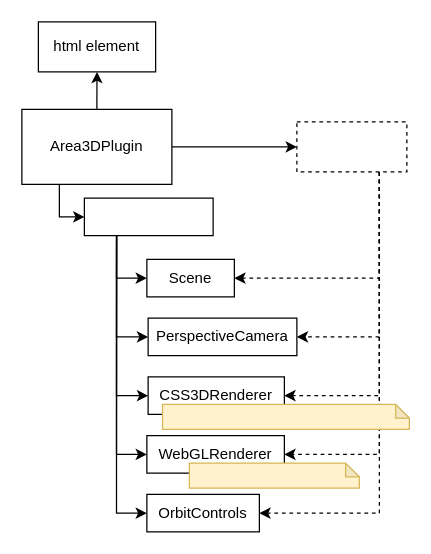
The diagram is 431 pixels wide and 554 high, and some of its shapes have lost their labels. The shapes that lost their labels are listed below. From the top down, each one's box as (x1, y1, x2, y2) in pixels, then its label:
(296, 121, 407, 172): three.js
(83, 197, 213, 236): HybridScene
(161, 403, 409, 429): apply 3D transformation to html
(188, 462, 359, 488): regular 3D renderer
